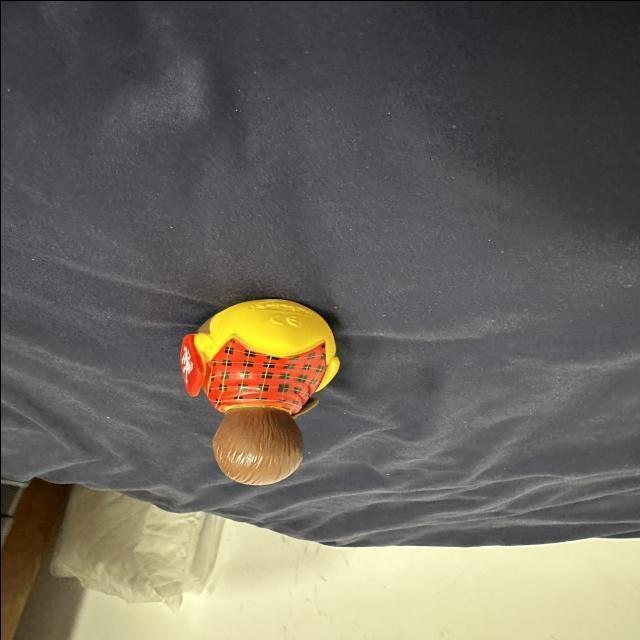rubber-duck: (179, 298, 338, 483)
